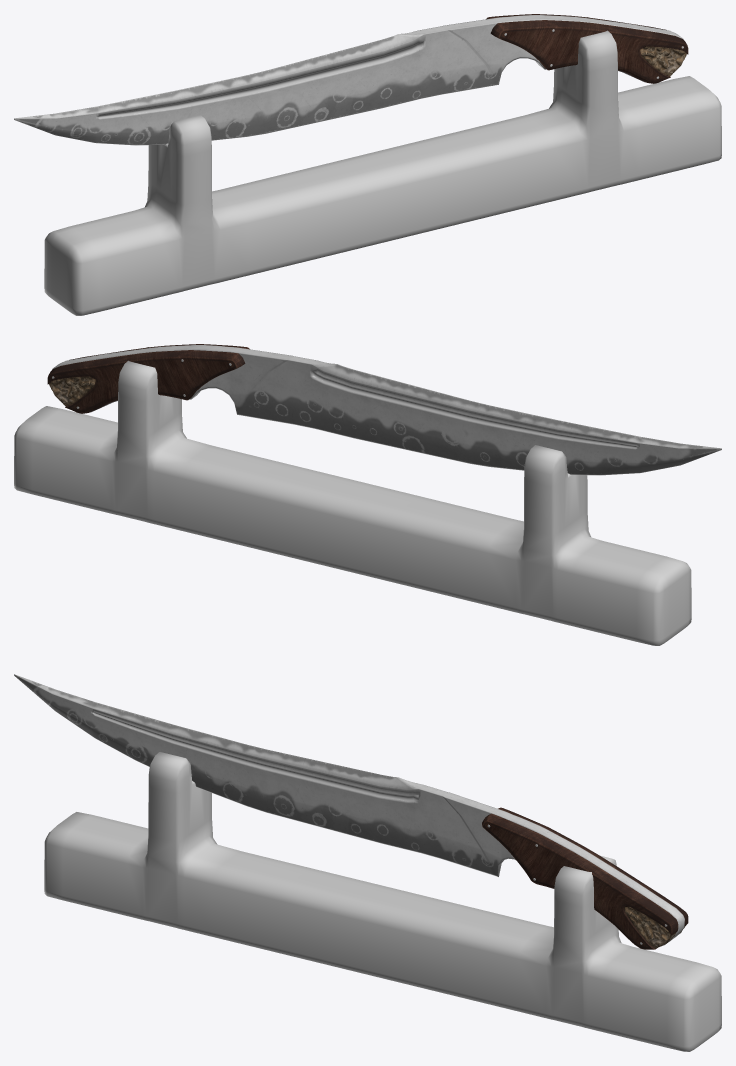
Rendered from 1.0OrnamentKnife.obj.
The picture shows the model from 3 angles, top to bottom: view 1: azimuth 30°, elevation 25°; view 2: azimuth 150°, elevation 25°; view 3: azimuth 330°, elevation 25°; orthographic projection.
Visible parts, largest first — view 1: Cube.001_, Plane.010_Blade2, Grip.009_Grip, Grip.010_GripDetail; view 2: Cube.001_, Plane.010_Blade2, Grip.009_Grip, Grip.010_GripDetail; view 3: Cube.001_, Plane.010_Blade2, Grip.009_Grip, Grip.010_GripDetail.
Boxes of the visible parts, x1,y1,x2,y2 form: Cube.001_: (44,17,721,315); Plane.010_Blade2: (14,15,683,145); Grip.009_Grip: (486,14,688,83); Grip.010_GripDetail: (640,46,686,76); Cube.001_: (14,347,691,645); Plane.010_Blade2: (52,345,721,475); Grip.009_Grip: (47,344,249,413); Grip.010_GripDetail: (49,376,95,406); Cube.001_: (44,752,721,1051); Plane.010_Blade2: (14,674,684,945); Grip.009_Grip: (482,807,688,949); Grip.010_GripDetail: (624,907,686,948).
Bounding box in the file's own units: 5.16 × 1.41 × 0.4727.
